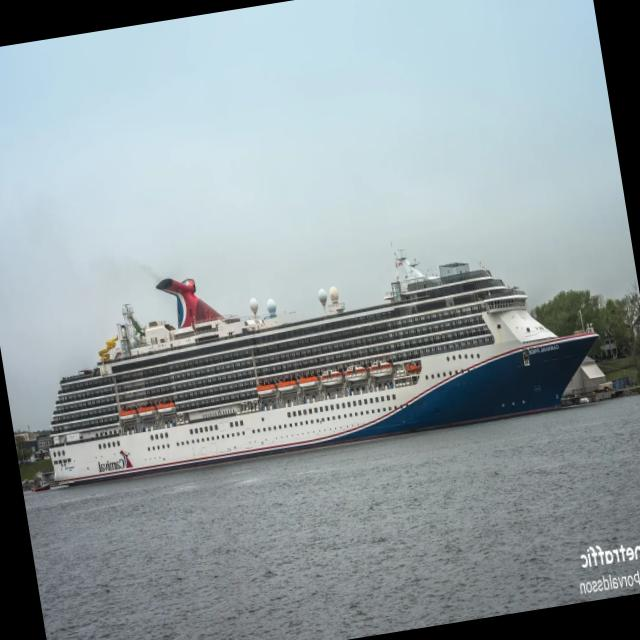Cruise: (46, 248, 600, 487)
